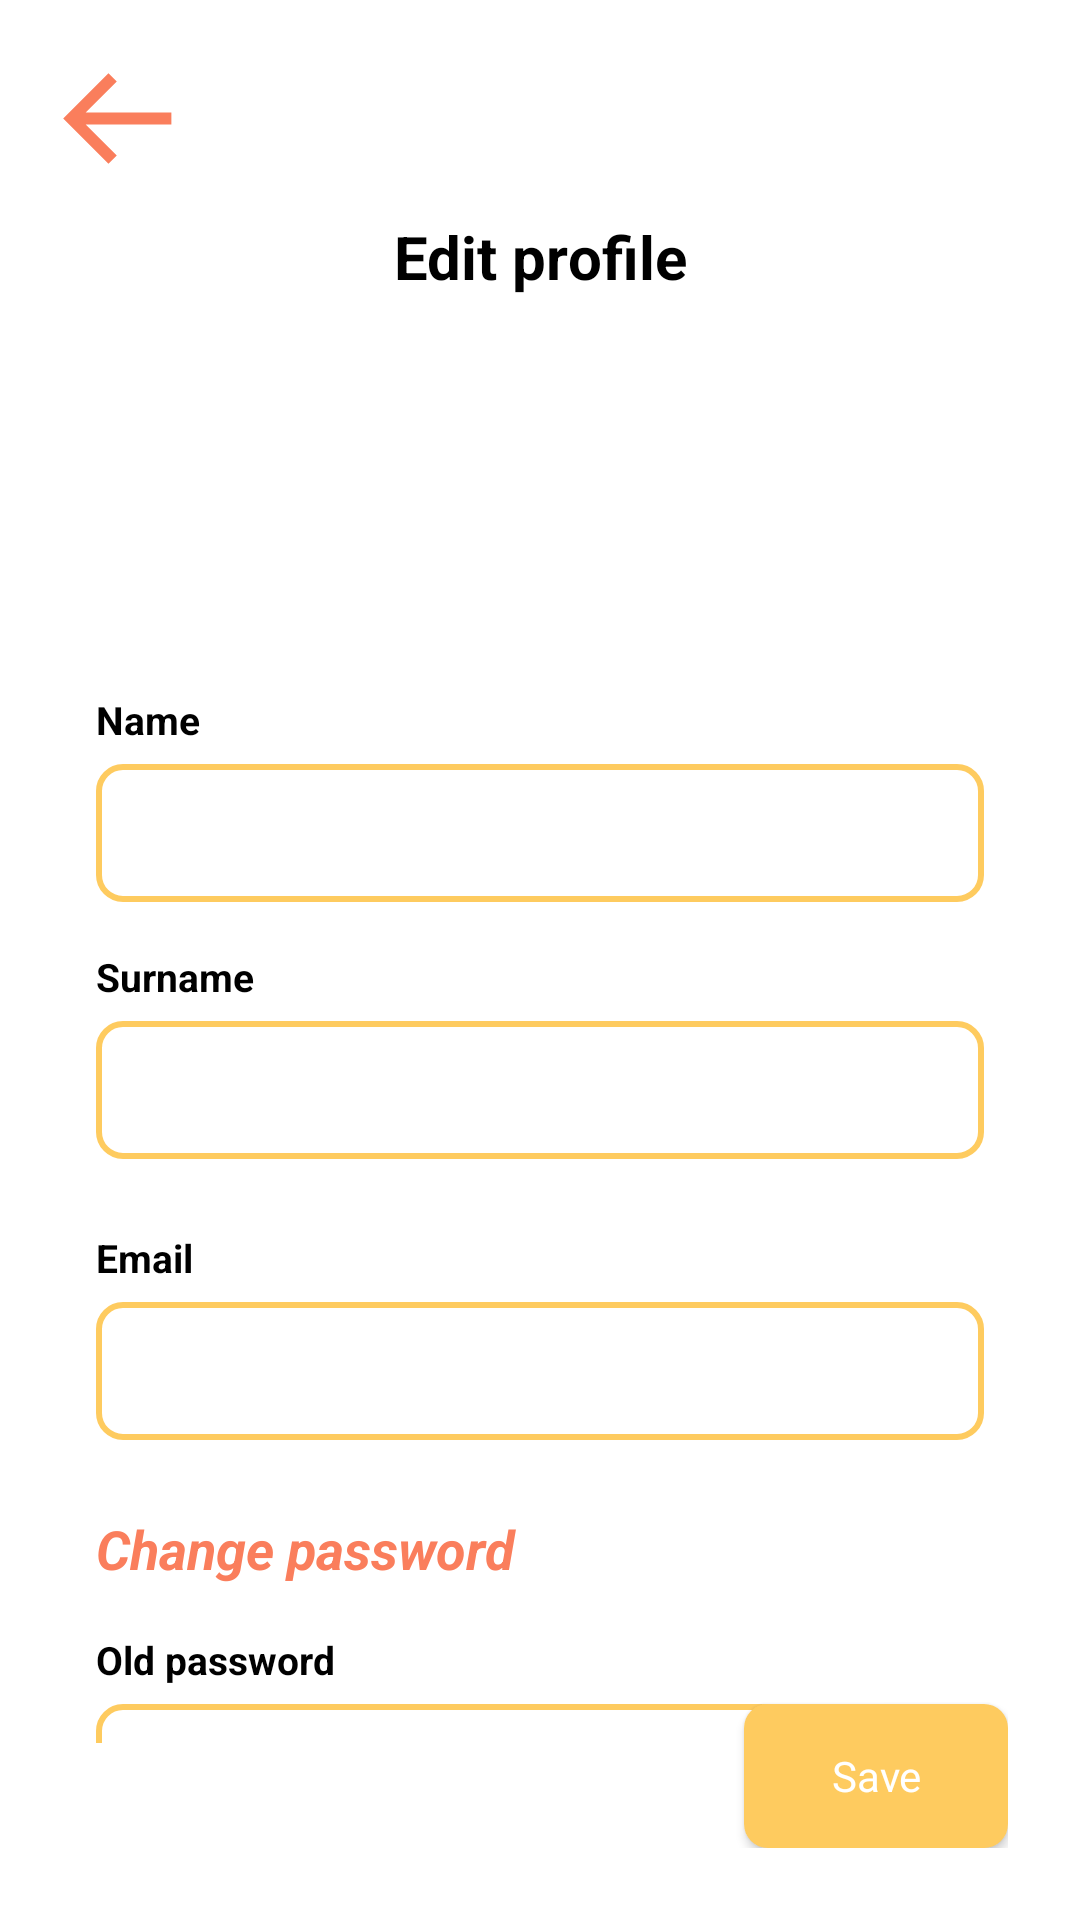

Icon click points for this 1080 x 1920 phone screenshot, format (x=x, y=y):
back: (x=117, y=118)
